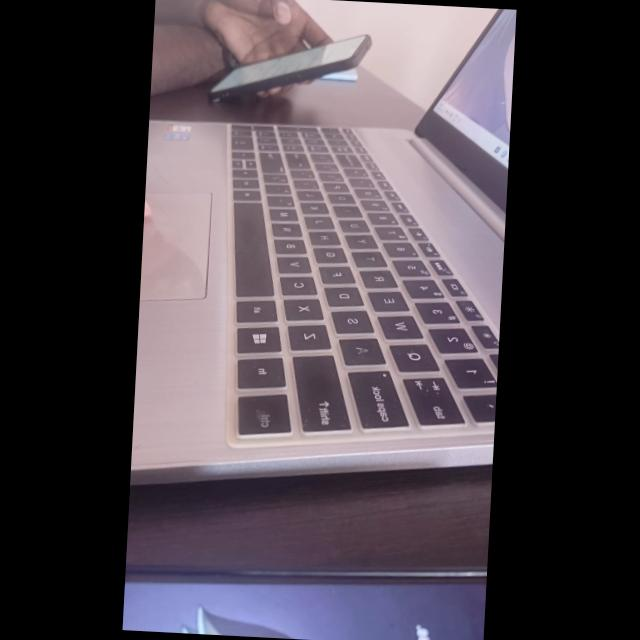laptop: (129, 117, 507, 520)
